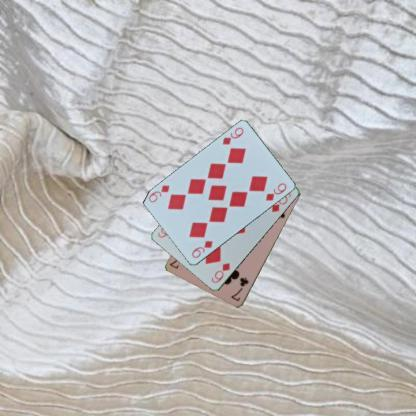6d: (209, 260, 232, 285)
7c: (228, 274, 249, 303)
9d: (220, 124, 245, 146), (188, 238, 214, 259)
